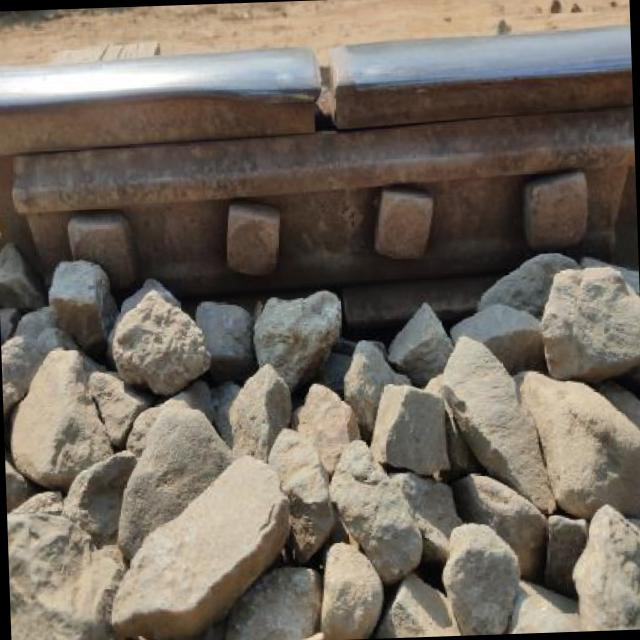defective: (0, 0, 637, 263)
